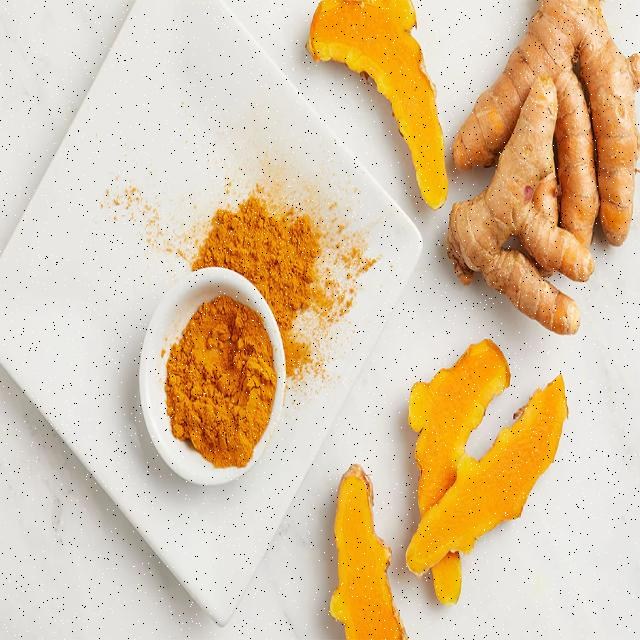turmeric: (450, 6, 638, 324), (401, 361, 579, 606), (307, 0, 448, 211), (318, 454, 411, 640)
